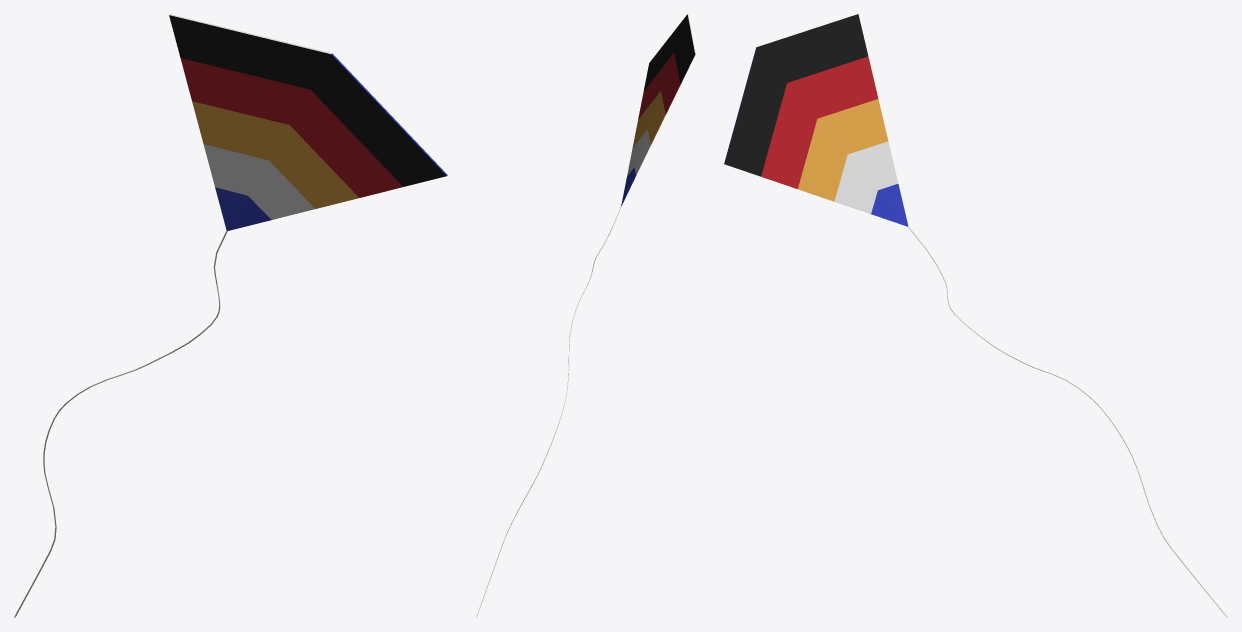
Rendered from KITE.fbx.
3 views of the same model, side by side, from view 1: azimuth 30°, elevation 25°; view 2: azimuth 150°, elevation 25°; view 3: azimuth 270°, elevation 25° (orthographic). The views are drawn at different scales.
Parts seen in each view (by area): view 1: Cube; view 2: Cube; view 3: Cube.
Boxes of the visible parts, bbox=[...] form: Cube: bbox=[14, 14, 447, 617]; Cube: bbox=[476, 14, 695, 617]; Cube: bbox=[724, 14, 1227, 617].
Size of the model in its own units: 161 by 709 by 573.
